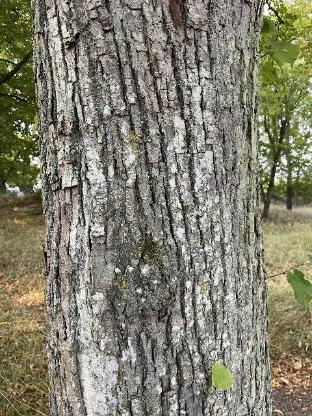tree: (22, 0, 282, 416)
